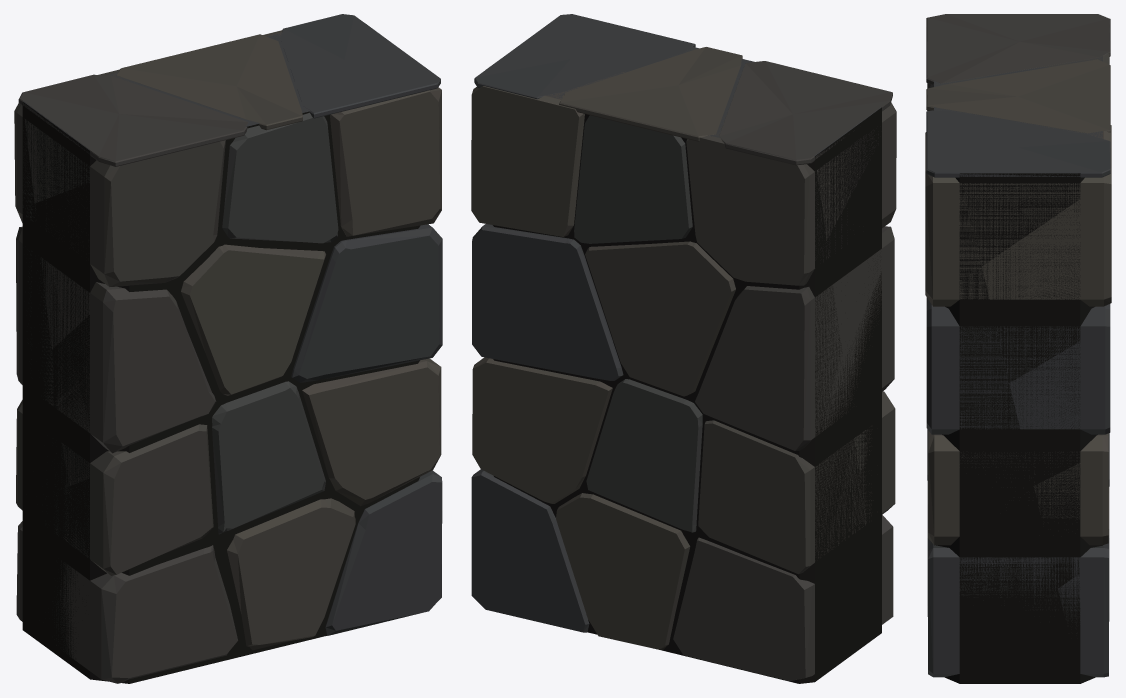
File: Wall_2m_B.fbx
3 renders of one model, left to right at view 1: azimuth 30°, elevation 25°; view 2: azimuth 150°, elevation 25°; view 3: azimuth 270°, elevation 25°, orthographic. The views are drawn at different scales.
Visible parts, largest first — view 1: Wall_2m_B; view 2: Wall_2m_B; view 3: Wall_2m_B.
Part boxes in pixels (<box>): Wall_2m_B: <box>14,14,442,683</box>; Wall_2m_B: <box>471,14,896,683</box>; Wall_2m_B: <box>925,14,1111,683</box>.
Bounding box in the file's own units: 2 × 3 × 0.9898.
1 material, 1 textured.
